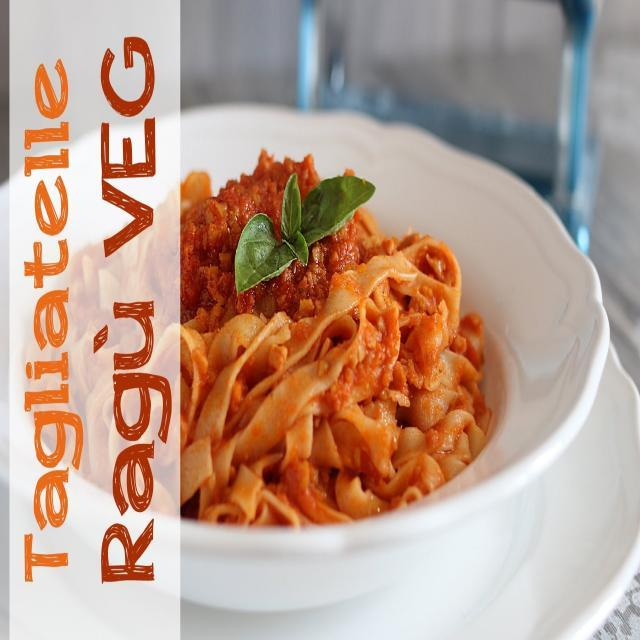Pasta al ragu: (175, 132, 529, 525)
